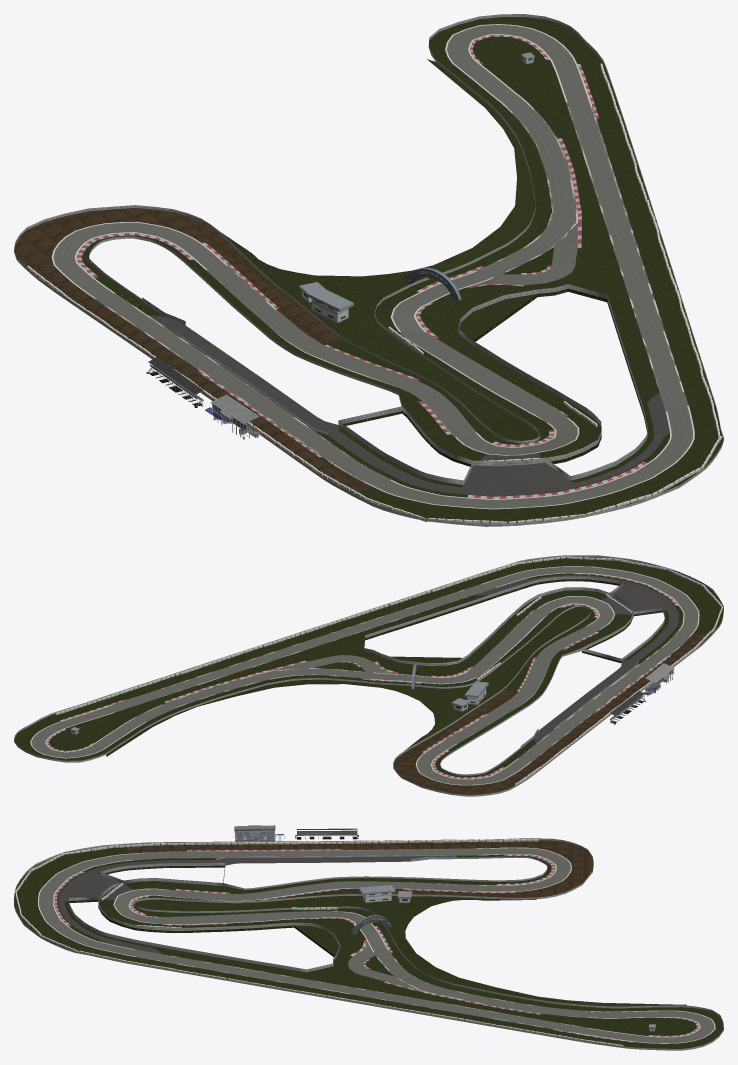
The model's file is Race2.glb.
The picture shows the model from 3 angles, top to bottom: view 1: azimuth 30°, elevation 25°; view 2: azimuth 150°, elevation 25°; view 3: azimuth 270°, elevation 25°; orthographic projection. The views are drawn at different scales.
Parts seen in each view (by area): view 1: g_39.001, inner_46.001, Plane.001_66.001, bounds_40.001, g.012_62.001, g.001_50.001, r_38.001, Kerbs_42.001, g.011_61.001, dunlop chicane_43.001, Cube.027_2.001, ddm_gts_tsukuba.103_35.001 (+1 smaller); view 2: g_39.001, inner_46.001, Plane.001_66.001, bounds_40.001, g.012_62.001, r_38.001, g.001_50.001, Kerbs_42.001, g.011_61.001, dunlop chicane_43.001, Cube.027_2.001, ddm_gts_tsukuba.103_35.001 (+1 smaller); view 3: g_39.001, inner_46.001, bounds_40.001, Plane.001_66.001, g.012_62.001, r_38.001, g.001_50.001, Kerbs_42.001, g.011_61.001, dunlop chicane_43.001, ddm_gts_tsukuba.103_35.001, Cube.027_2.001 (+1 smaller).
Part boxes in pixels (x1,y1,x2,y2): g_39.001: (82,17,723,523); inner_46.001: (53,24,692,508); Plane.001_66.001: (95,102,688,482); bounds_40.001: (14,14,723,526); g.012_62.001: (14,208,372,493); g.001_50.001: (147,314,669,496); r_38.001: (51,24,694,509); Kerbs_42.001: (76,35,646,499); g.011_61.001: (462,453,573,489); dunlop chicane_43.001: (467,223,577,287); Cube.027_2.001: (299,282,353,323); ddm_gts_tsukuba.103_35.001: (205,393,259,439); g_39.001: (14,557,723,777); inner_46.001: (31,567,698,784); Plane.001_66.001: (110,584,689,761); bounds_40.001: (14,555,723,796); g.012_62.001: (393,633,710,794); r_38.001: (30,566,699,785); g.001_50.001: (474,575,679,743); Kerbs_42.001: (46,573,678,778); g.011_61.001: (600,583,666,614); dunlop chicane_43.001: (273,655,396,673); Cube.027_2.001: (451,681,488,711); ddm_gts_tsukuba.103_35.001: (643,662,674,696); g_39.001: (14,846,723,1048); inner_46.001: (39,848,714,1043); bounds_40.001: (14,838,723,1050); Plane.001_66.001: (131,848,598,1032); g.012_62.001: (126,840,593,897); r_38.001: (38,847,715,1043); g.001_50.001: (58,856,437,953); Kerbs_42.001: (54,849,699,1042); g.011_61.001: (65,873,132,900); dunlop chicane_43.001: (348,941,419,990); ddm_gts_tsukuba.103_35.001: (234,825,284,841); Cube.027_2.001: (358,885,412,902).
Bounding box in the file's own units: 12.14 × 0.5158 × 16.84.
Materials: 12 (12 with a texture image).
